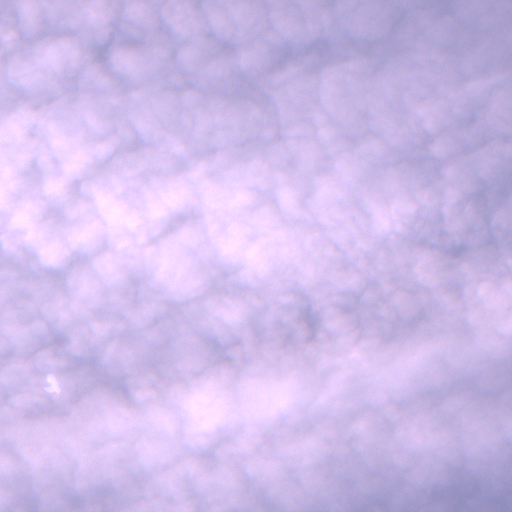Iceberg: (45, 375, 60, 394)
